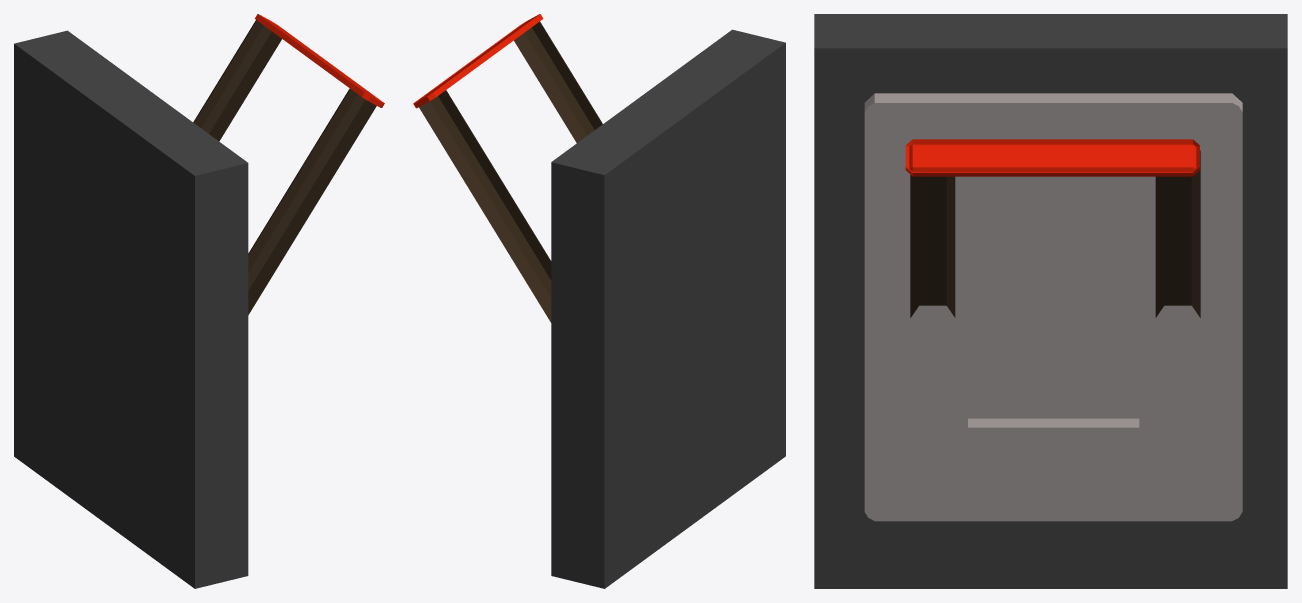
Rendered from schakelaar1.fbx.
3 renders of one model, left to right at view 1: azimuth 30°, elevation 25°; view 2: azimuth 150°, elevation 25°; view 3: azimuth 270°, elevation 25°, orthographic. The views are drawn at different scales.
Visible parts, largest first — view 1: Cube, Cube.003, Cube.004; view 2: Cube, Cube.003, Cube.004; view 3: Cube.001, Cube, Cube.003, Cube.004.
Part boxes in pixels (<box>): Cube: <box>14,30,248,588</box>; Cube.003: <box>193,20,376,314</box>; Cube.004: <box>255,14,384,107</box>; Cube: <box>551,29,785,588</box>; Cube.003: <box>419,21,602,322</box>; Cube.004: <box>413,14,543,108</box>; Cube.001: <box>864,93,1242,521</box>; Cube: <box>814,14,1287,588</box>; Cube.003: <box>910,150,1200,317</box>; Cube.004: <box>905,139,1199,176</box>.
Bounding box in the file's own units: 27.18 × 47.78 × 37.42.
